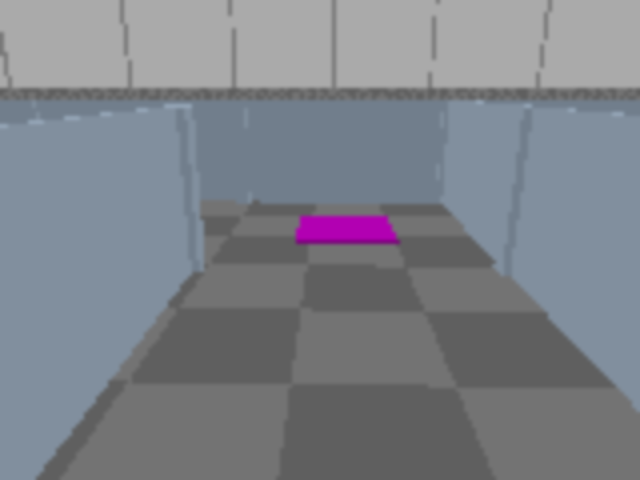goal_zone: (295, 214, 398, 243)
